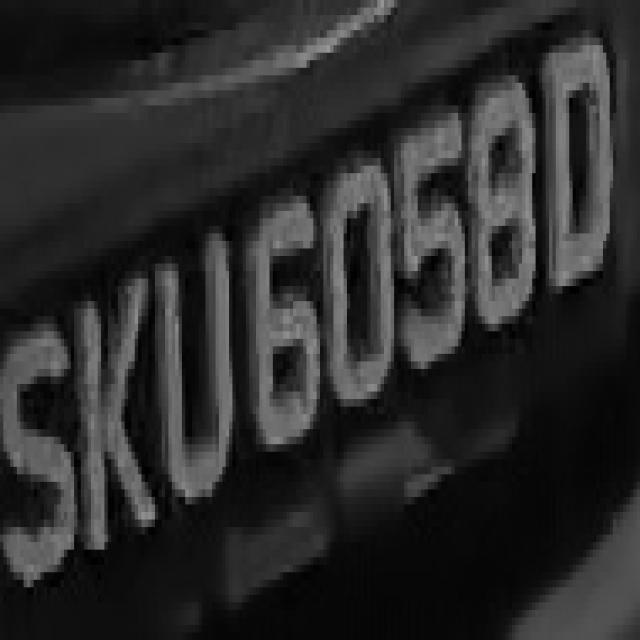0: (327, 150, 404, 452)
5: (394, 90, 468, 392)
6: (249, 173, 327, 467)
8: (465, 68, 539, 361)
D: (535, 53, 630, 331)
K: (84, 241, 152, 572)
S: (3, 263, 81, 610)
U: (145, 203, 249, 512)
